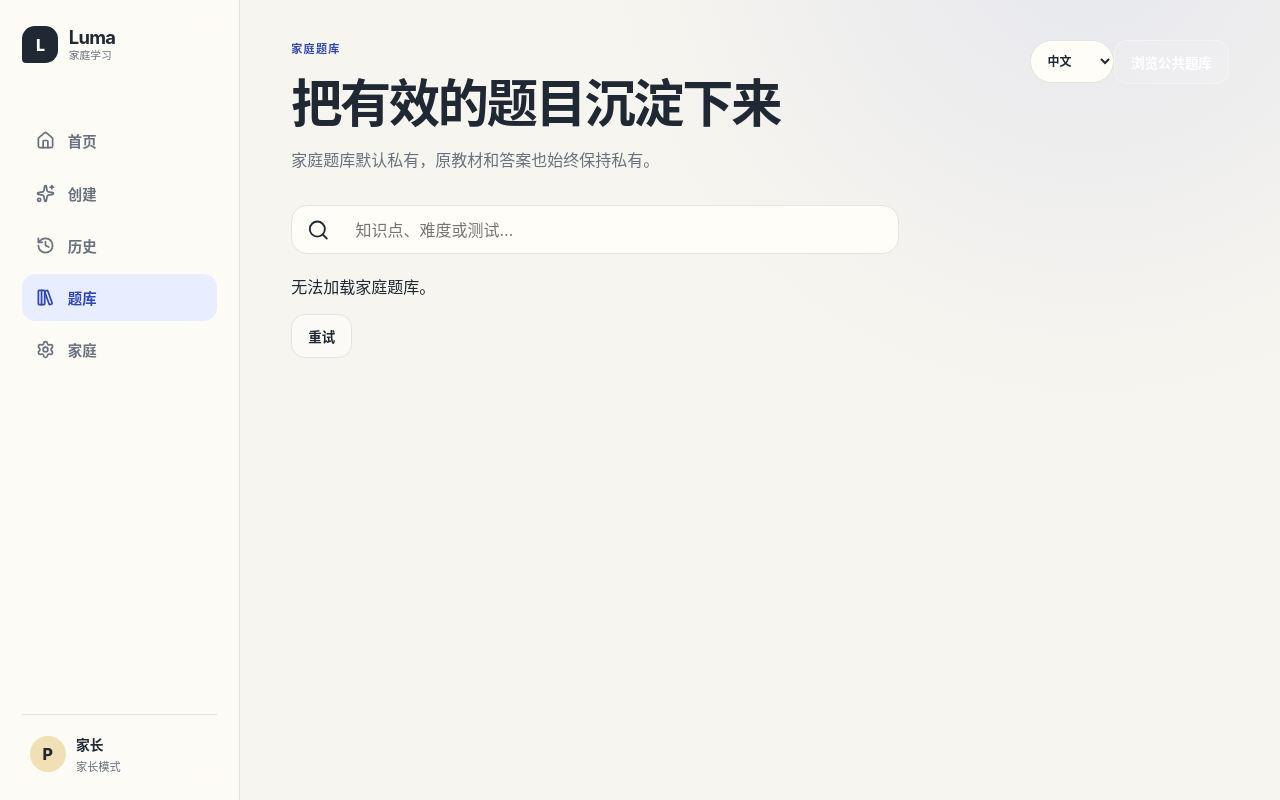
LibraryPage › lets a parent retry loading the private family question library
Expected: the text "无法加载家庭题库。" is shown, [291,276,435,296]
Click the button "重试". click: click(322, 336)
box: [291,314,352,358]
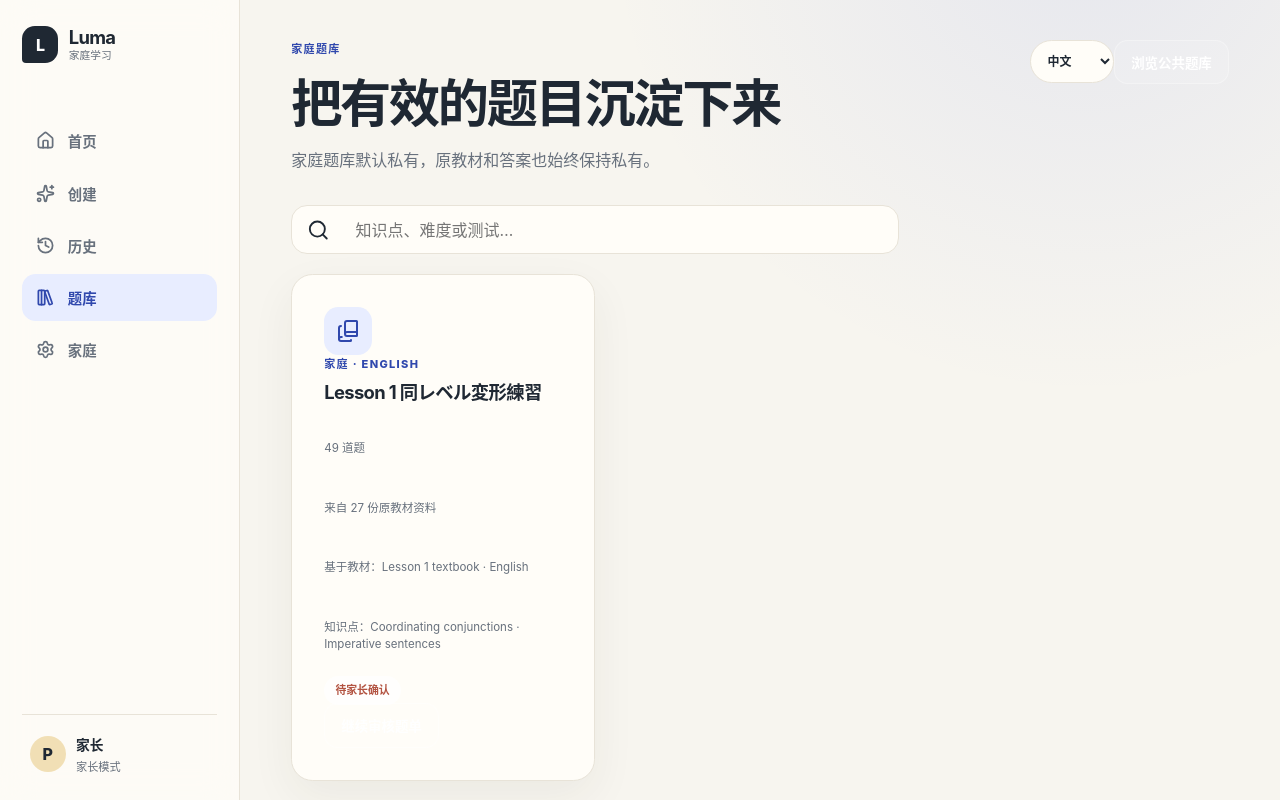
Expected: the heading "Lesson 1 同レベル変形練習" is shown, [324,381,542,403]
